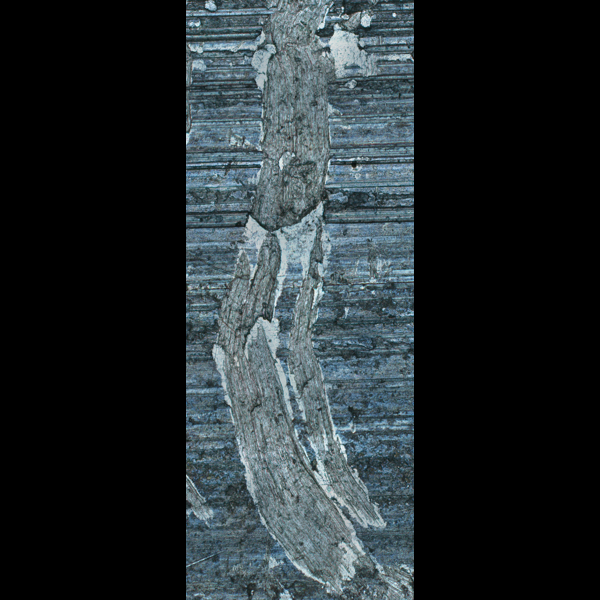d: (206, 260, 342, 503), (221, 110, 337, 300), (259, 455, 406, 595), (234, 0, 392, 109), (185, 0, 222, 75)
